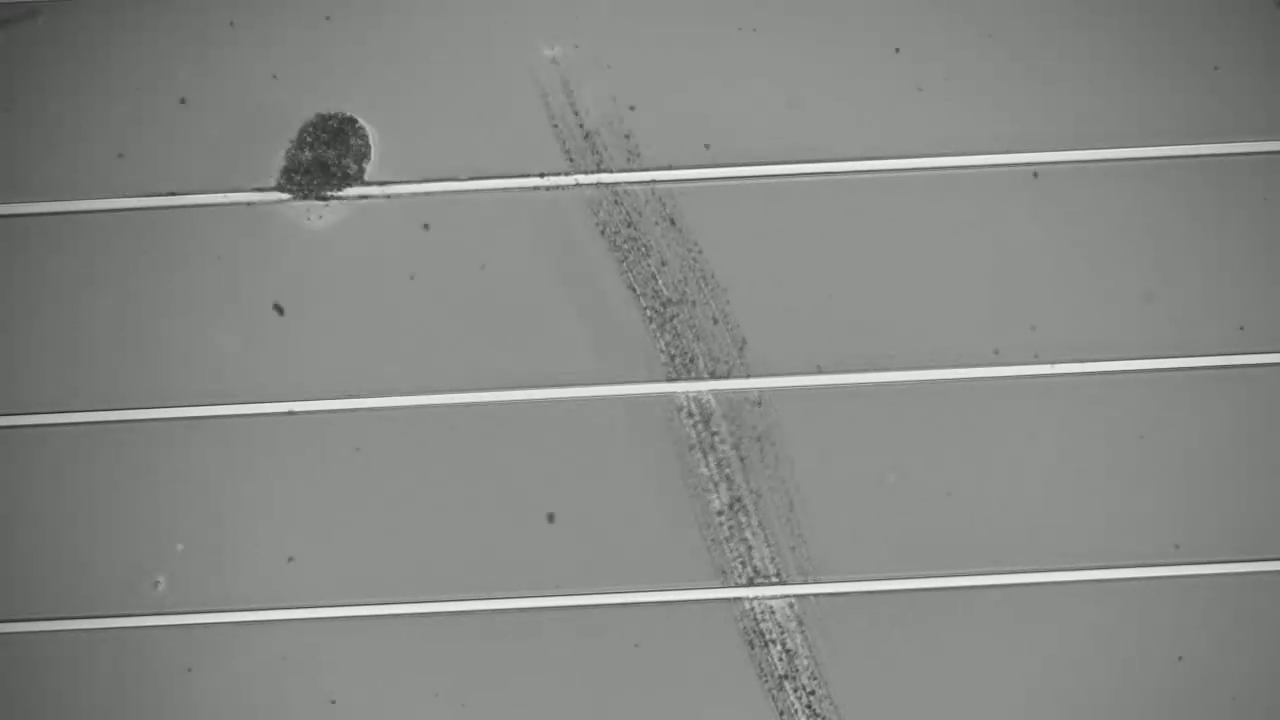scratch: (542, 91, 851, 718)
stains_enbedded: (244, 86, 386, 235)
